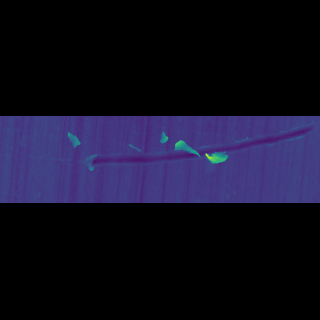Loch: (81, 149, 318, 163), (173, 154, 200, 159), (206, 157, 230, 161), (64, 152, 82, 157), (159, 152, 169, 155)
